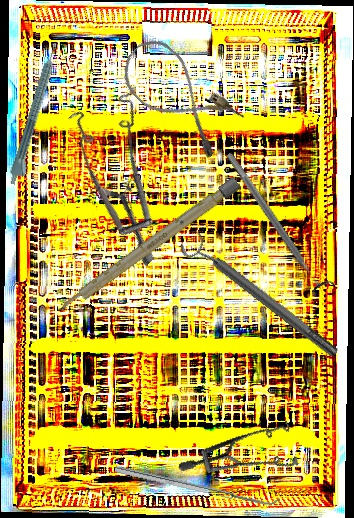Cannula: (111, 30, 247, 162)
Fixation Ring: (177, 226, 344, 367), (217, 146, 336, 299)
Handpiece: (6, 41, 67, 188)
Scalpel Handle: (57, 176, 242, 316)
Spatula Surgical: (114, 459, 281, 510)
Speculum: (31, 74, 226, 268), (177, 390, 312, 510)
